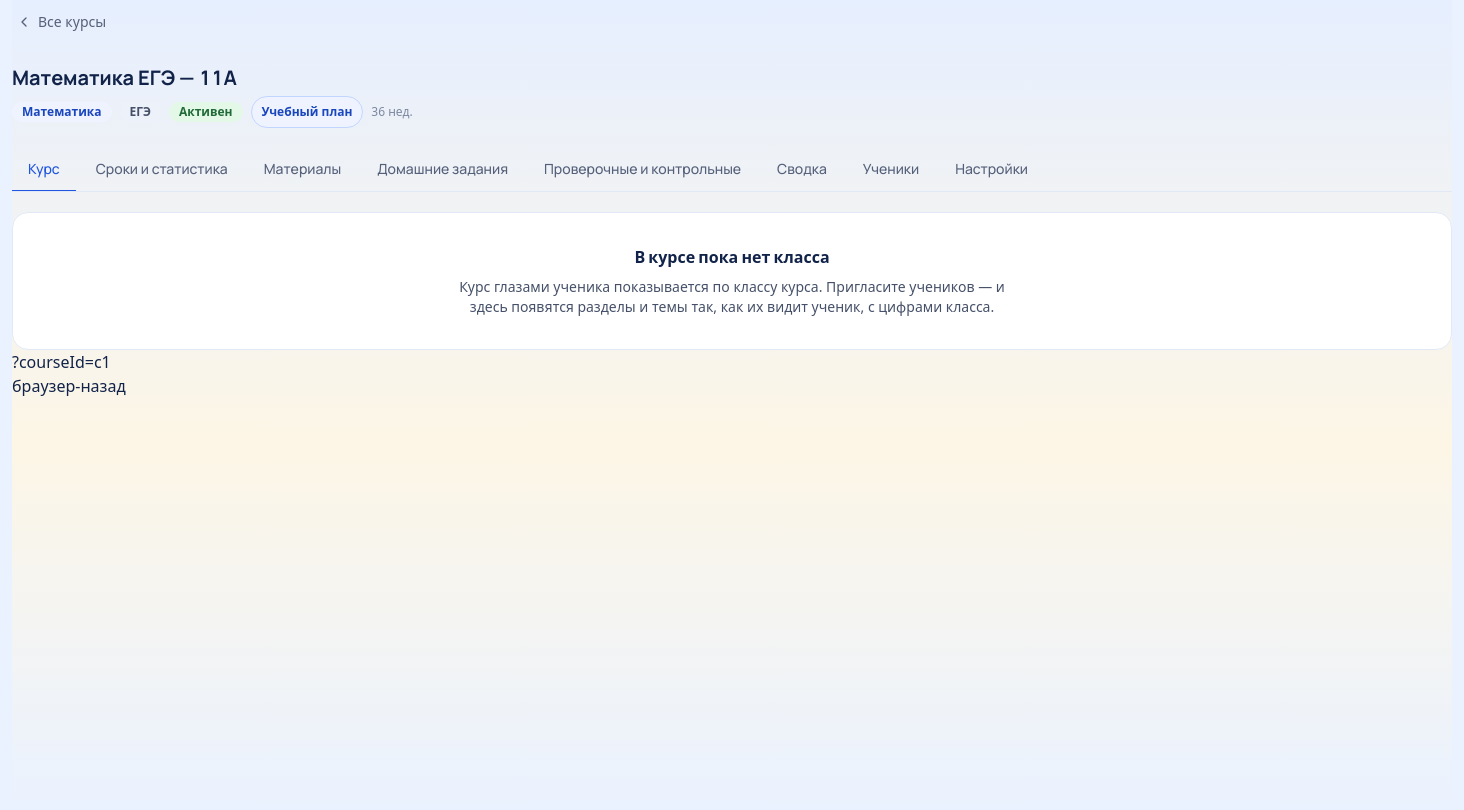
Вкладки курса (§250) › клик по «Сроки и статистика» пишет ?tab=program; обратно на «Курс» — вкладка из адреса уходит
Click the tab "Сроки и статистика". click: point(162, 170)
box: [80,148,244,192]
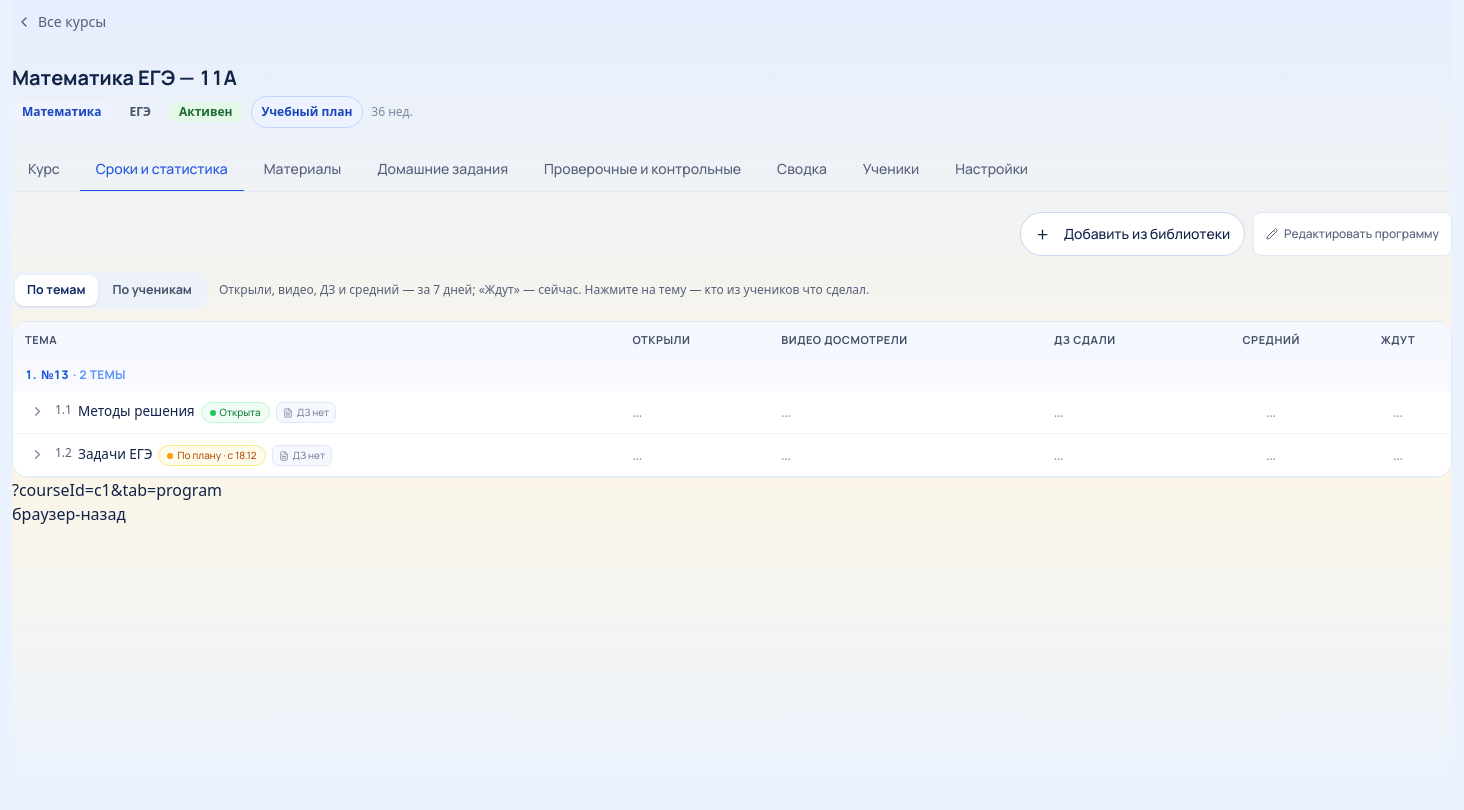
Now the text with test id "where" shows "tab=program", box [12,479,222,501]
Click the tab "Курс". click: point(44, 170)
box: [12,148,76,192]
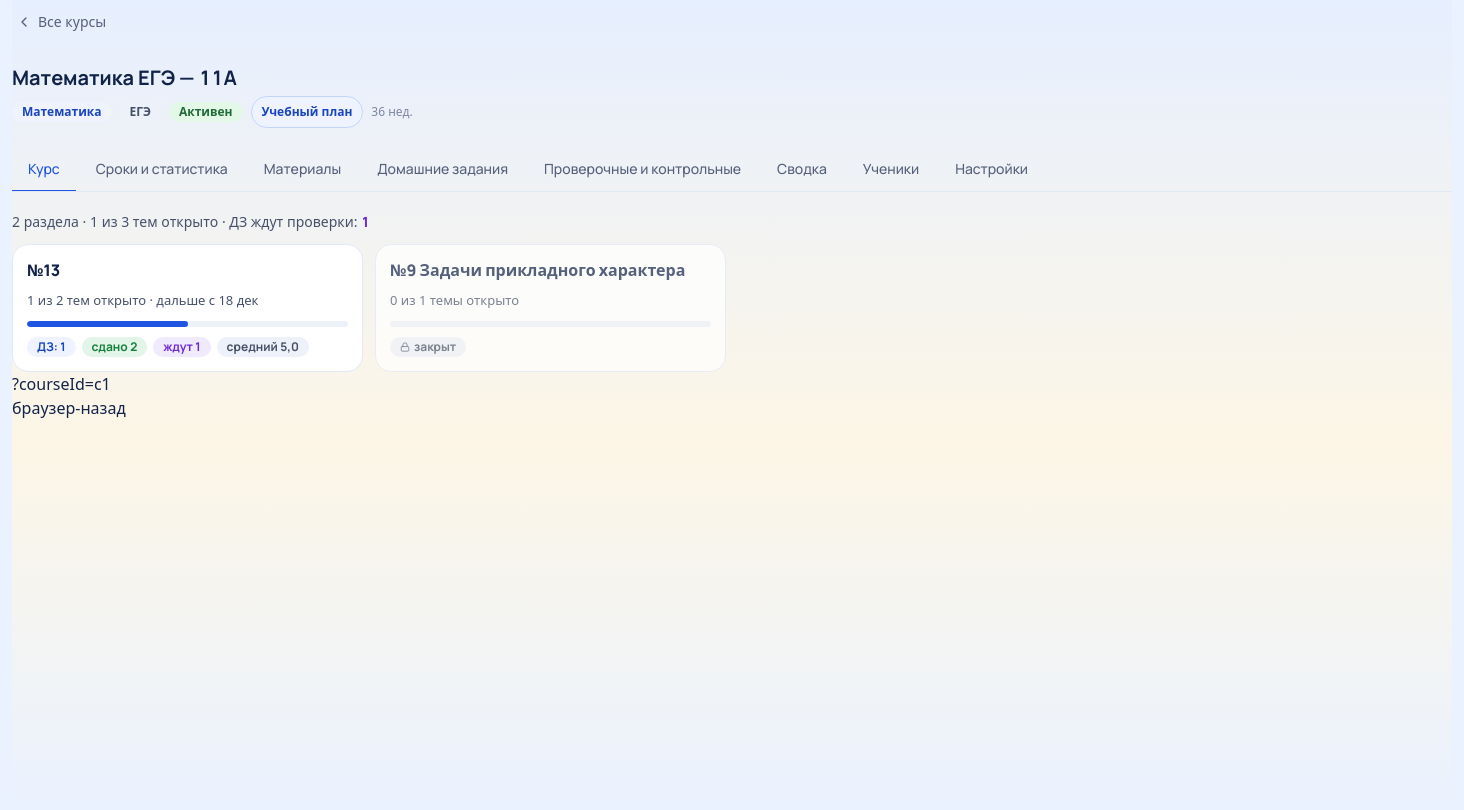
Now the text with test id "where" no longer shows "tab="
